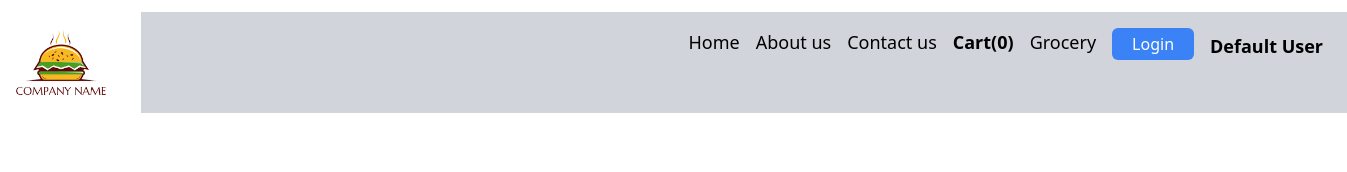
Test: Logout should be changes to Login on button click
Click the button "Login": (1153, 44) [1112,28,1194,60]
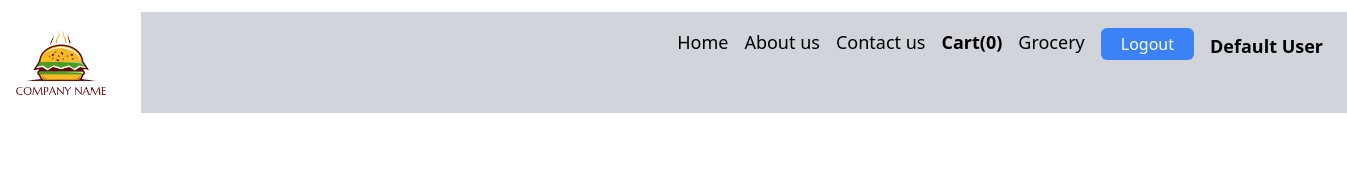
Click the button "Logout": (1147, 44) [1101,28,1194,60]
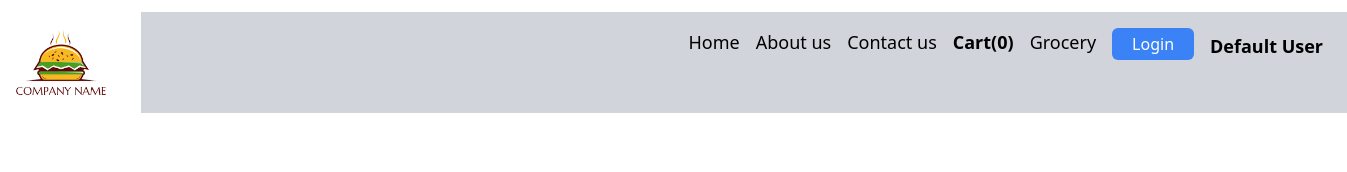
Now the button "Login" is shown, box [1112,28,1194,60]
